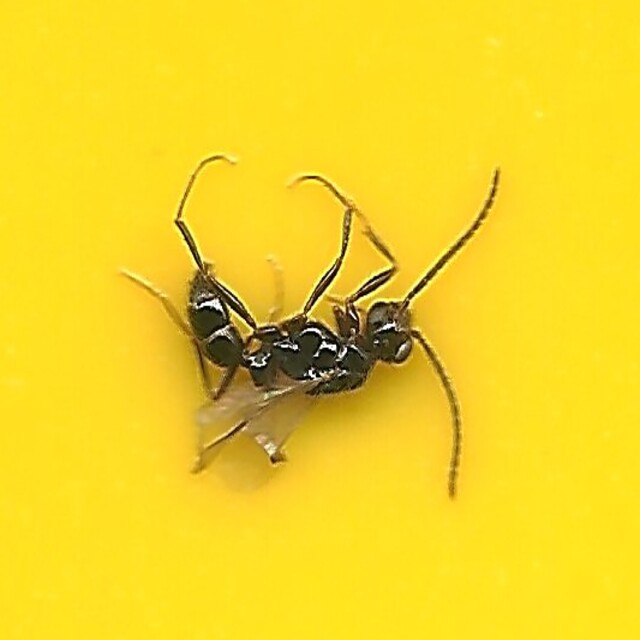Hymenoptera: (120, 149, 520, 491)
